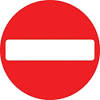No entry: (1, 2, 99, 100)
